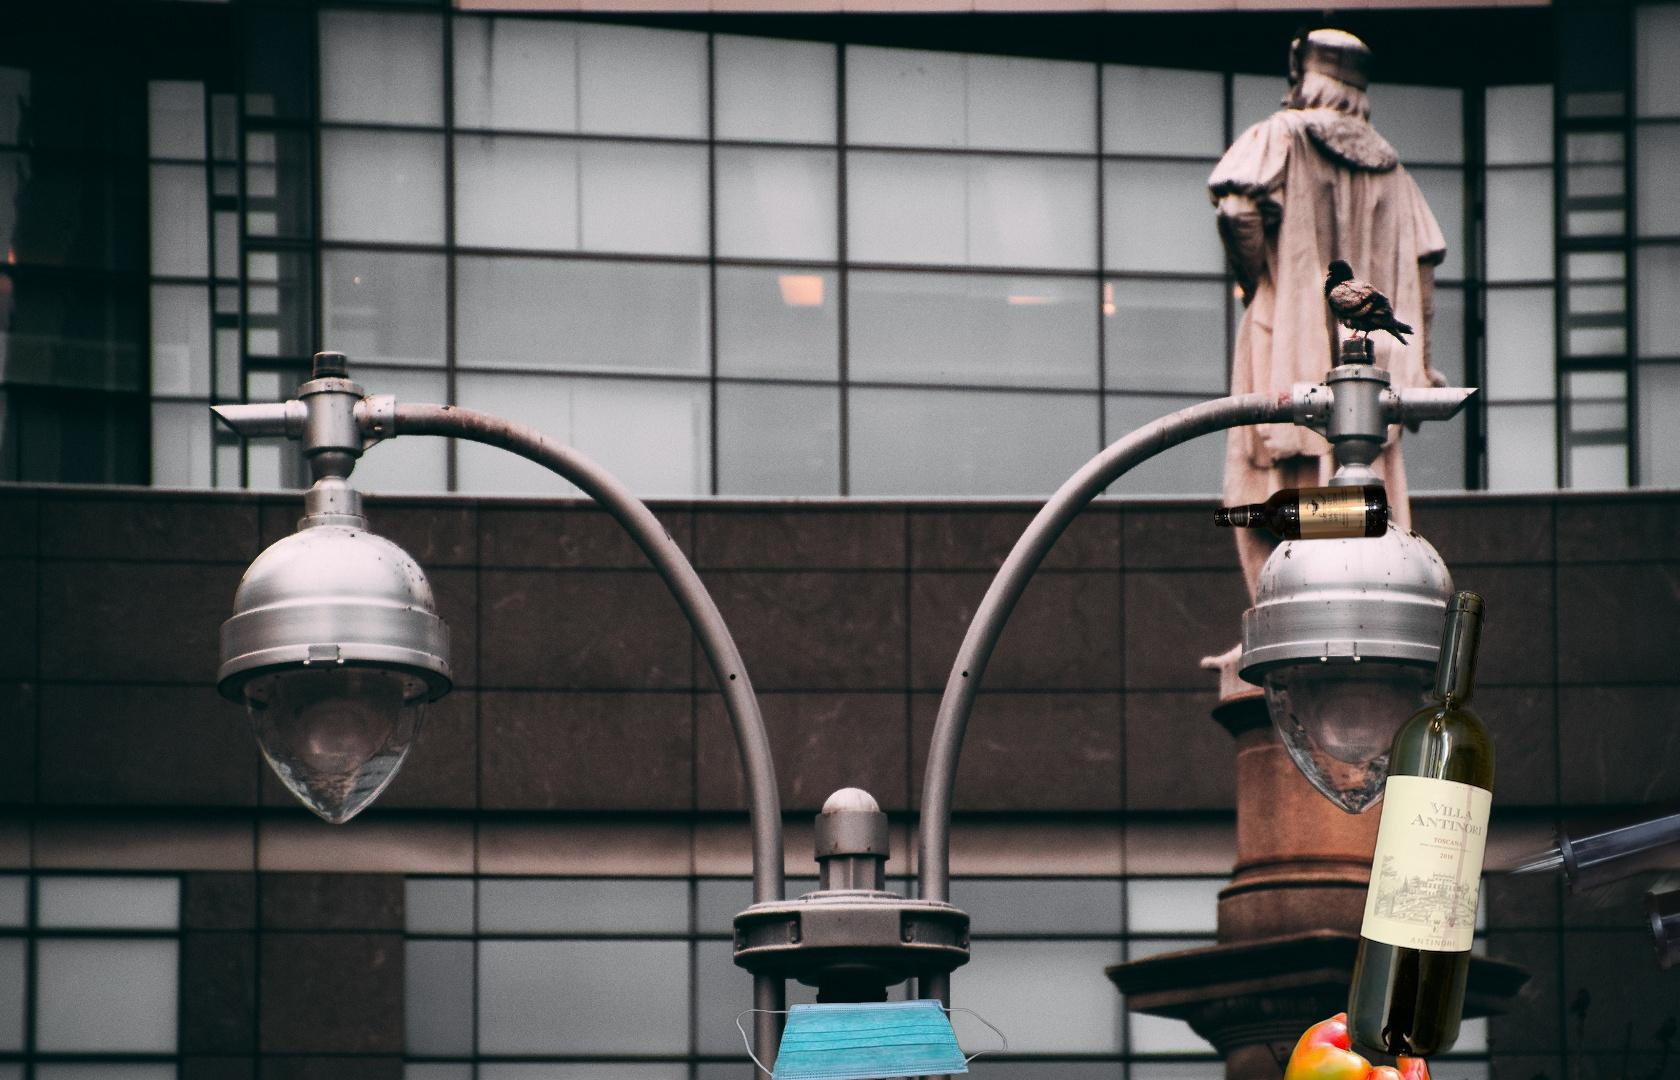biological: (1275, 1009, 1434, 1080)
glass: (1342, 584, 1501, 1065), (1209, 482, 1393, 546)
paper-bag: (1622, 96, 1680, 340)
penholder: (1240, 760, 1680, 1080)
trash: (733, 996, 1010, 1080)
